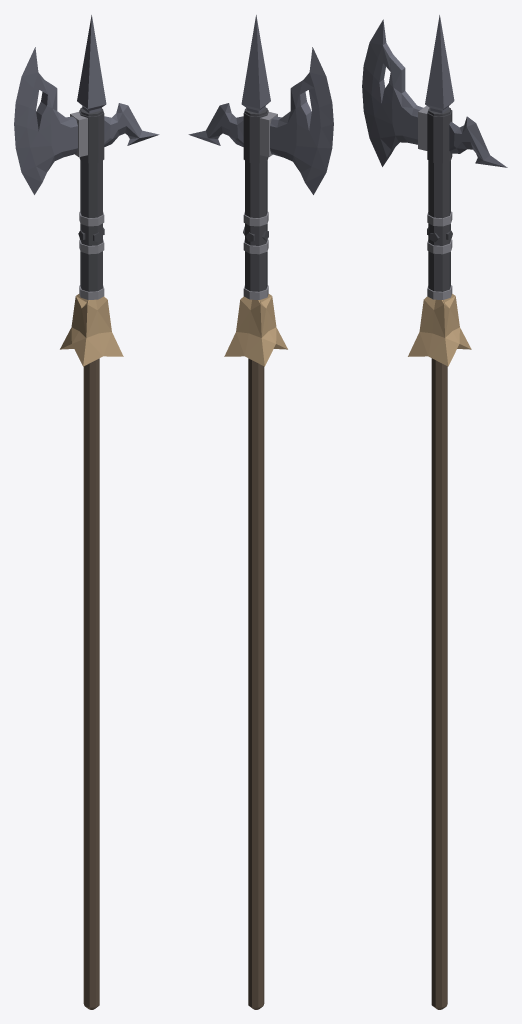
Rendered from Lanca_A07.fbx.
The picture shows the model from 3 angles, left to right: view 1: azimuth 30°, elevation 25°; view 2: azimuth 150°, elevation 25°; view 3: azimuth 330°, elevation 25°; orthographic projection.
Visible parts, largest first — view 1: polearm_7; view 2: polearm_7; view 3: polearm_7.
Part boxes in pixels (bbox=[...]): polearm_7: bbox=[14, 15, 159, 1009]; polearm_7: bbox=[188, 15, 333, 1009]; polearm_7: bbox=[362, 15, 507, 1009].
Size of the model in its own units: 31.66 by 206 by 8.81.
